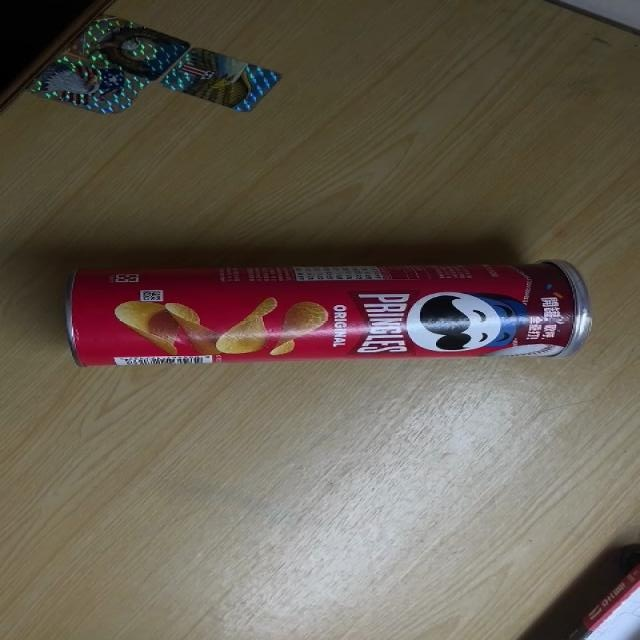Pringles: (68, 253, 591, 369)
